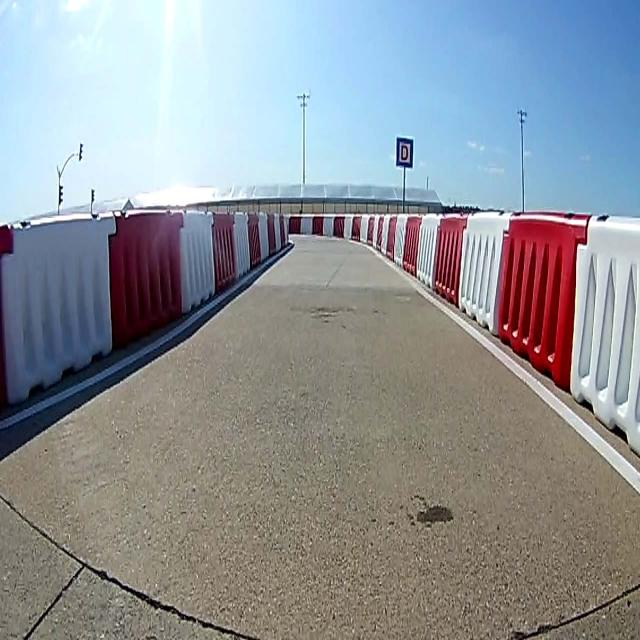durak: (395, 135, 413, 168)
